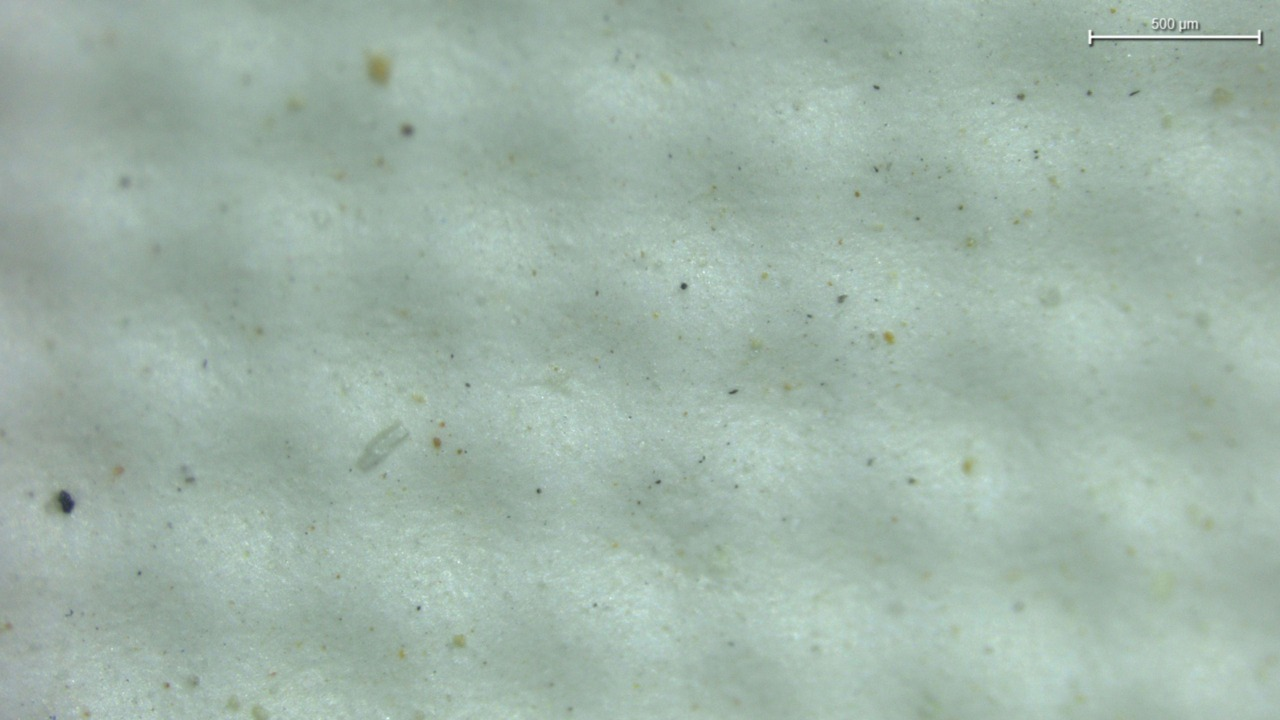microplastic_fragment: (356, 420, 408, 471)
